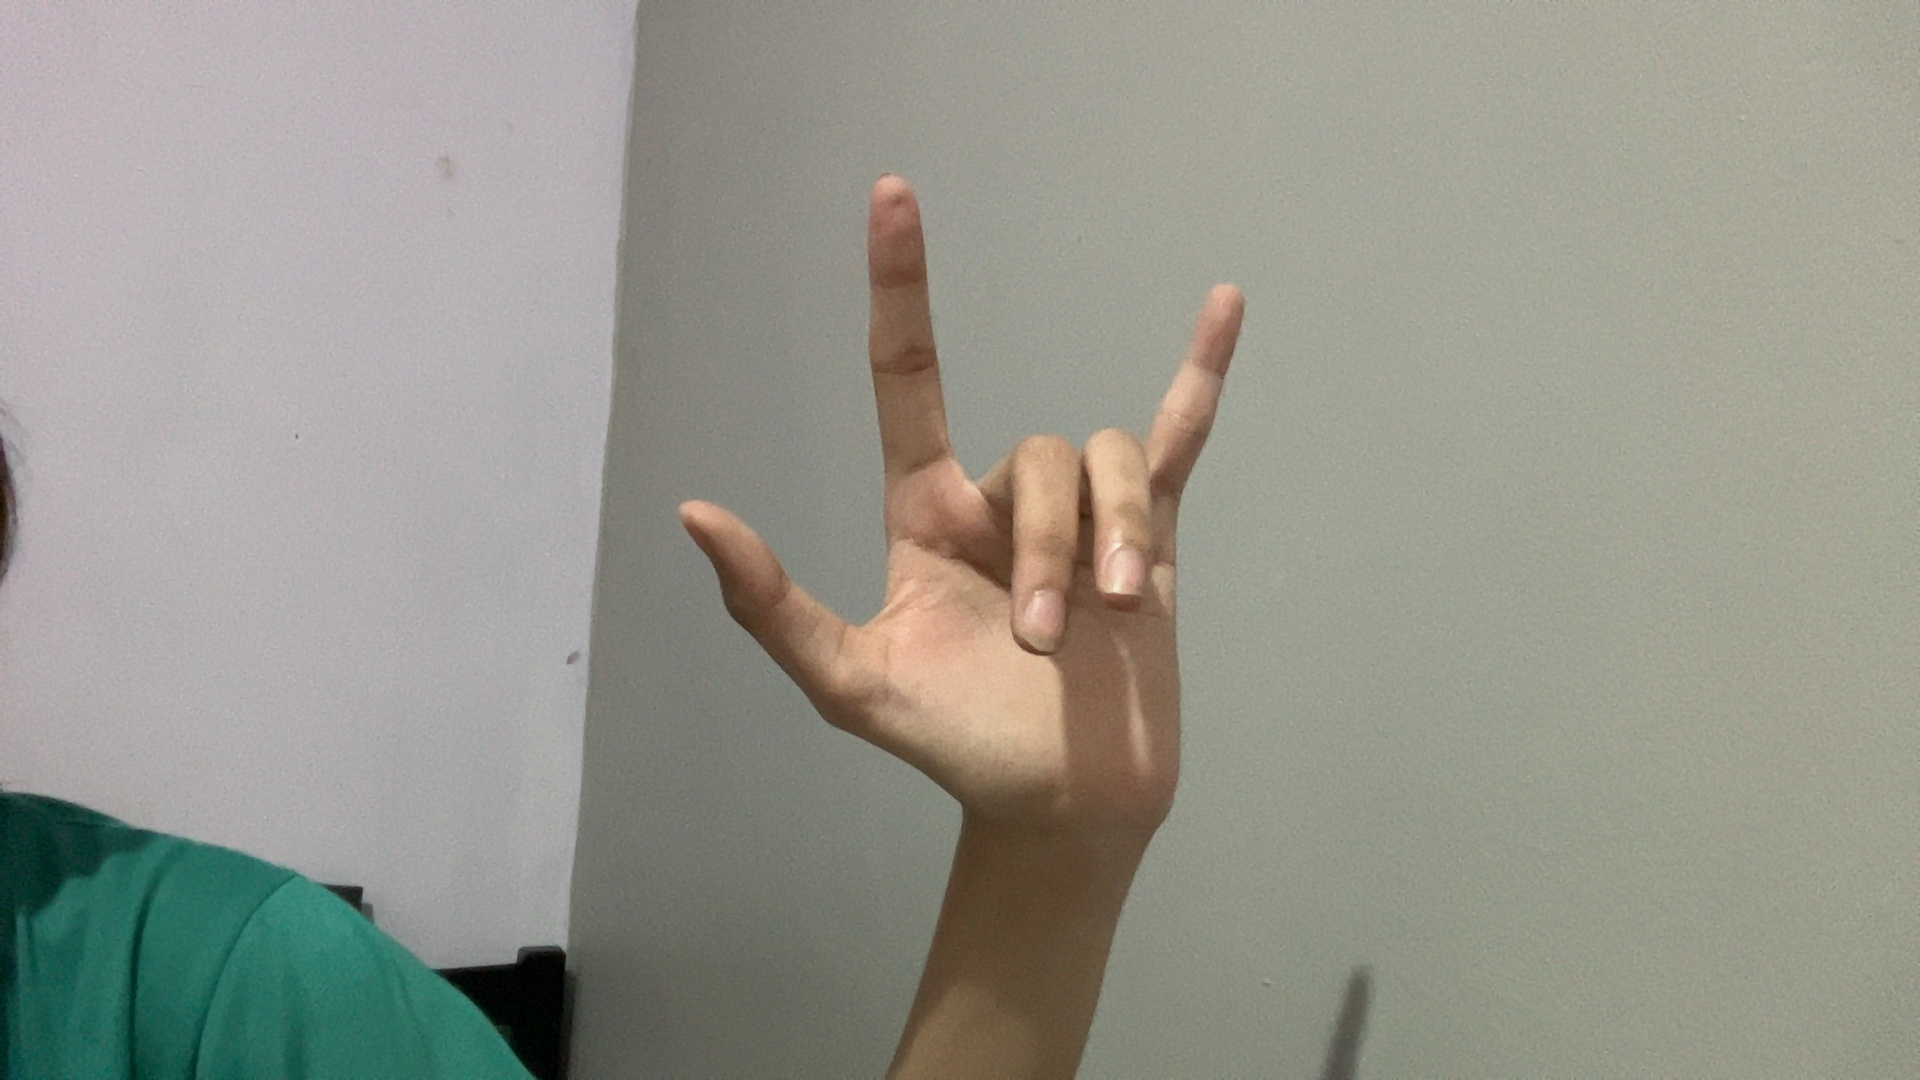I Love You: (479, 113, 1440, 890)
